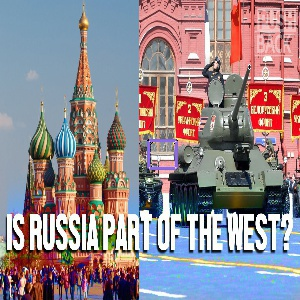square: (146, 137, 178, 169)
